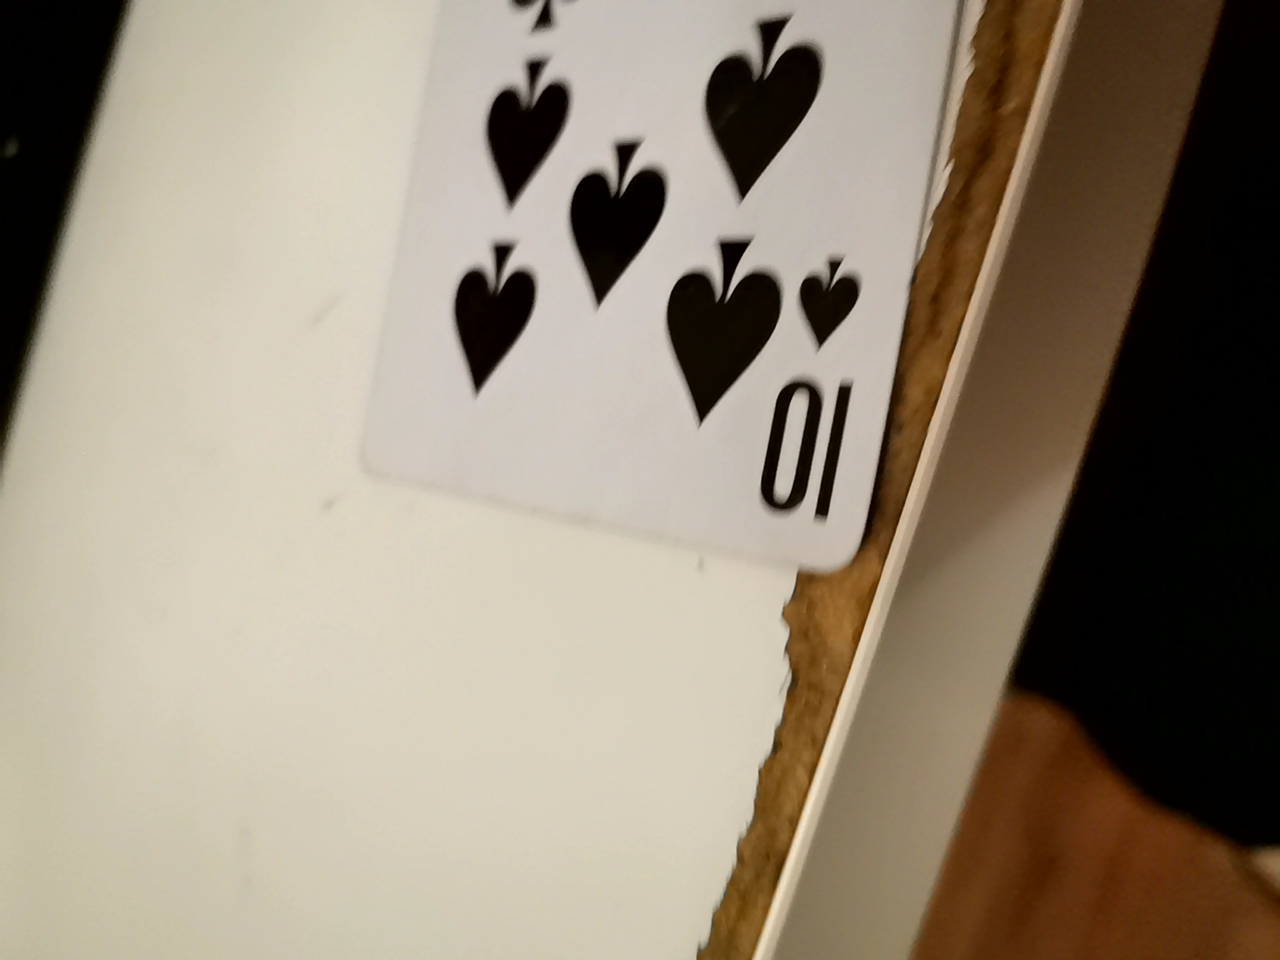ht 10: (348, 5, 987, 653)
